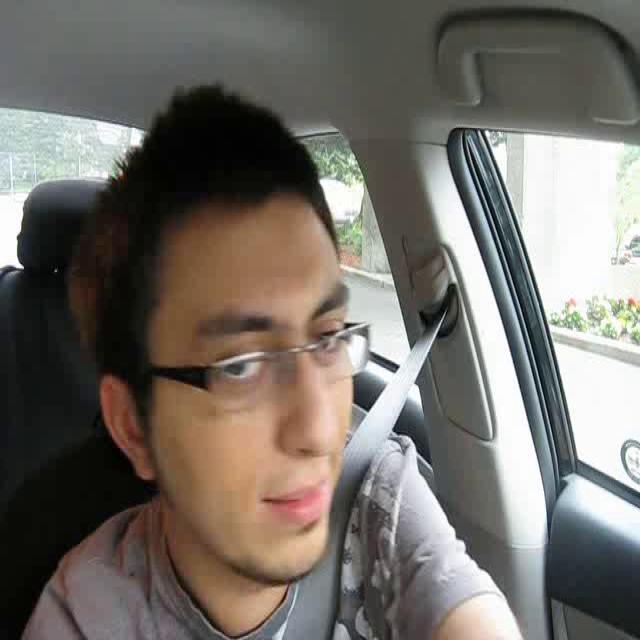close: (257, 473, 331, 526)
